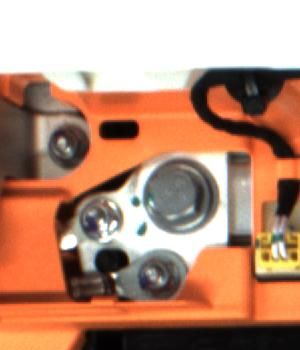nut_b: (146, 158, 220, 232)
screw_s: (135, 248, 188, 299), (77, 193, 118, 244), (47, 124, 79, 161)
